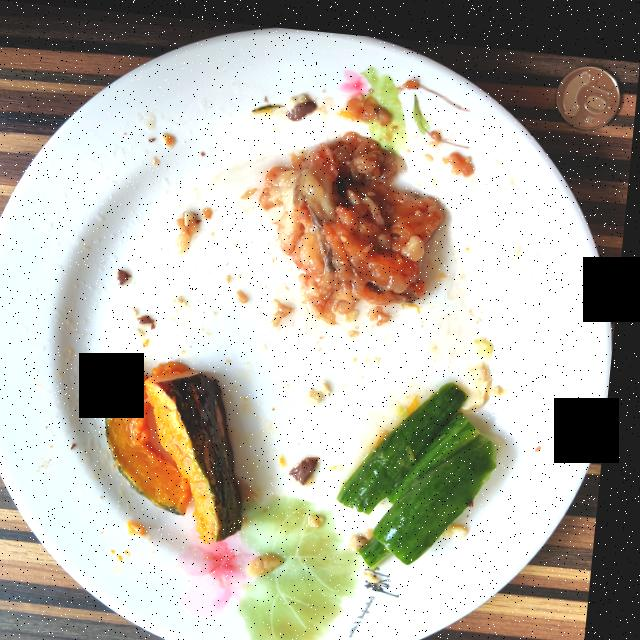Kabayaki sea bream fillet: (261, 123, 447, 316)
coin: (557, 53, 621, 117)
cucumber: (346, 372, 504, 558)
pumpkin: (153, 357, 252, 537), (114, 363, 202, 509)
